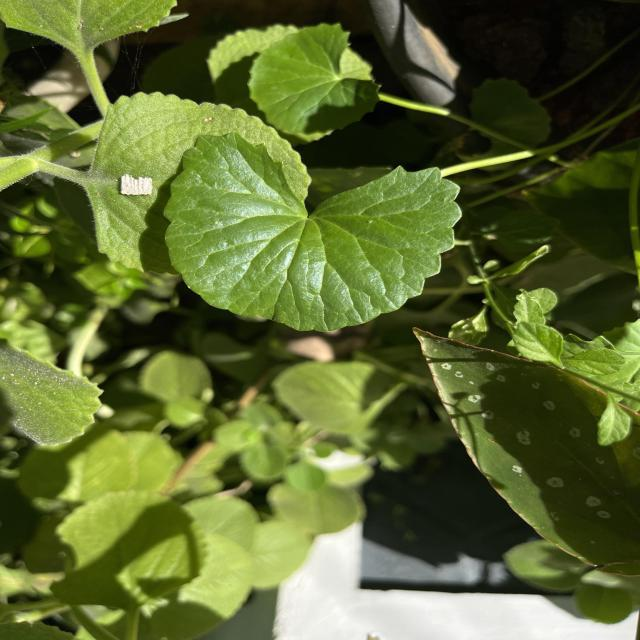Centella asiatica: (160, 128, 466, 334)
